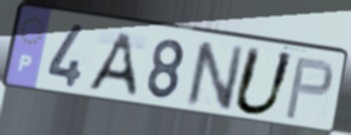4: (44, 22, 87, 92)
8: (145, 37, 187, 101)
A: (84, 30, 138, 99)
N: (183, 39, 247, 114)
P: (281, 55, 335, 122)
U: (229, 44, 298, 119)
